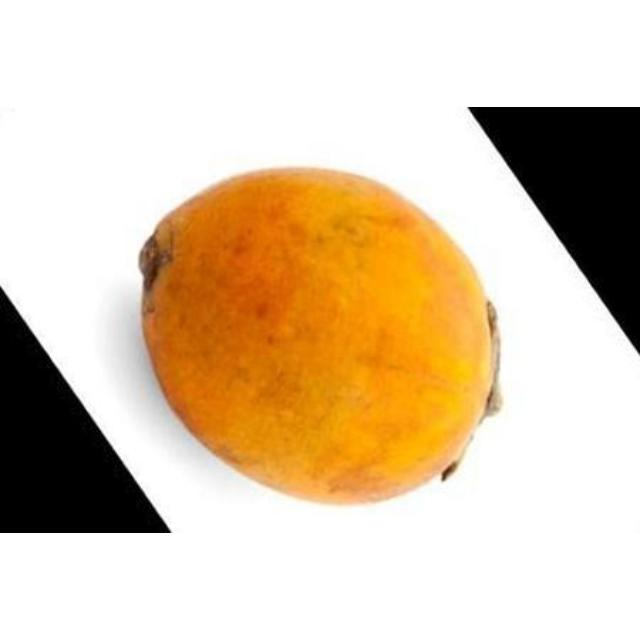good: (137, 168, 499, 508)
